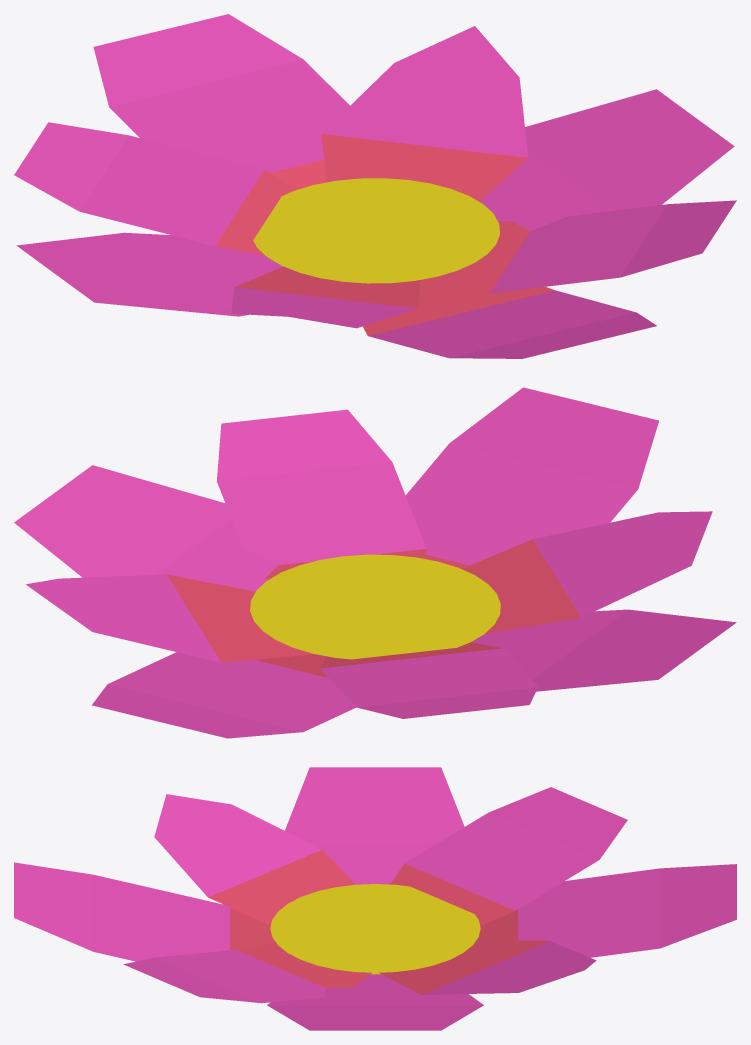
The model's file is flower_1.glb.
3 views of the same model, one above another, from view 1: azimuth 30°, elevation 25°; view 2: azimuth 150°, elevation 25°; view 3: azimuth 270°, elevation 25° (orthographic). The views are drawn at different scales.
Visible parts, largest first — view 1: flower_1; view 2: flower_1; view 3: flower_1.
Part boxes in pixels (x1,y1,x2,y2): flower_1: (14, 14, 736, 358); flower_1: (14, 387, 736, 738); flower_1: (14, 767, 736, 1030).
Bounding box in the file's own units: 0.499 × 0.0602 × 0.5789.
